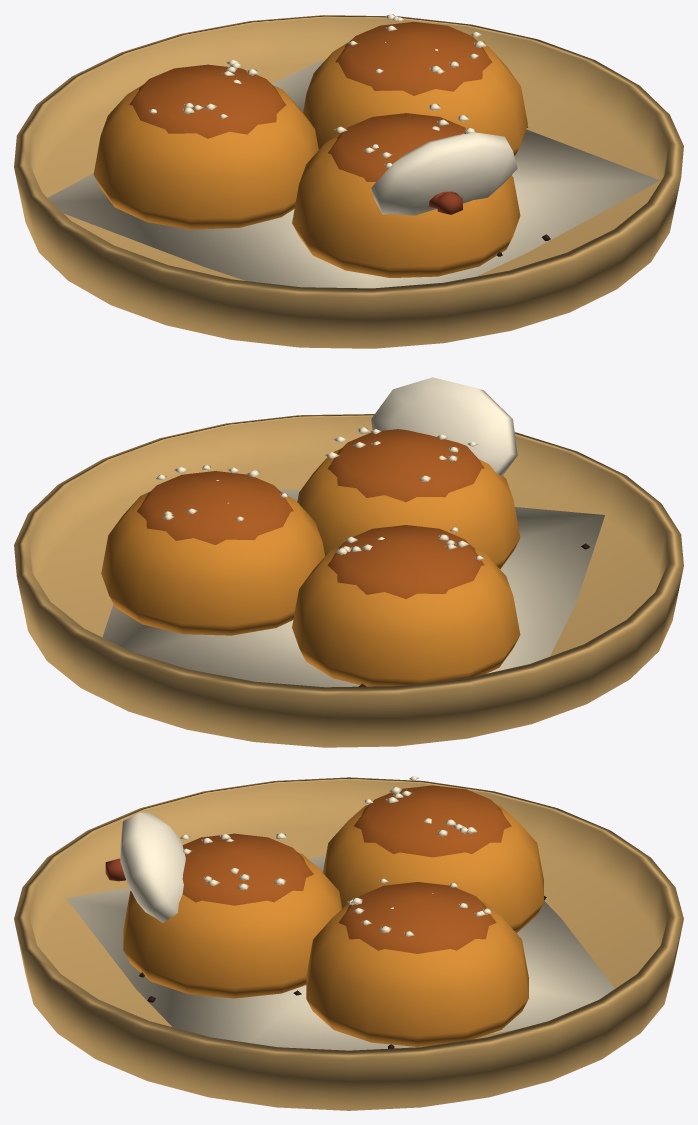
3 views of the same model, one above another, from view 1: azimuth 30°, elevation 25°; view 2: azimuth 150°, elevation 25°; view 3: azimuth 270°, elevation 25° (orthographic).
Parts seen in each view (by area): view 1: tray, bun, paper, bun_top, bun_inside, sesame, filling; view 2: tray, bun, bun_top, paper, bun_inside, sesame; view 3: tray, bun, bun_top, paper, bun_inside, sesame.
Boxes of the visible parts, box(x1,y1,x2,y2) form: tray: box(14, 15, 683, 348); bun: box(93, 42, 527, 277); paper: box(48, 60, 660, 288); bun_top: box(129, 22, 491, 181); bun_inside: box(371, 132, 517, 215); sesame: box(149, 14, 485, 167); filling: box(429, 191, 462, 214); tray: box(14, 414, 683, 747); bun: box(101, 449, 520, 686); bun_top: box(137, 429, 484, 598); paper: box(102, 489, 604, 687); bun_inside: box(371, 377, 517, 476); sesame: box(156, 427, 484, 560); tray: box(14, 777, 683, 1110); bun: box(123, 804, 543, 1046); bun_top: box(182, 785, 511, 953); paper: box(66, 856, 615, 1050); bun_inside: box(120, 812, 185, 922); sesame: box(180, 776, 491, 936).
Size of the model in its own units: 0.176 by 0.0438 by 0.176.
